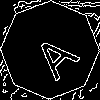A: (25, 25, 81, 82)
